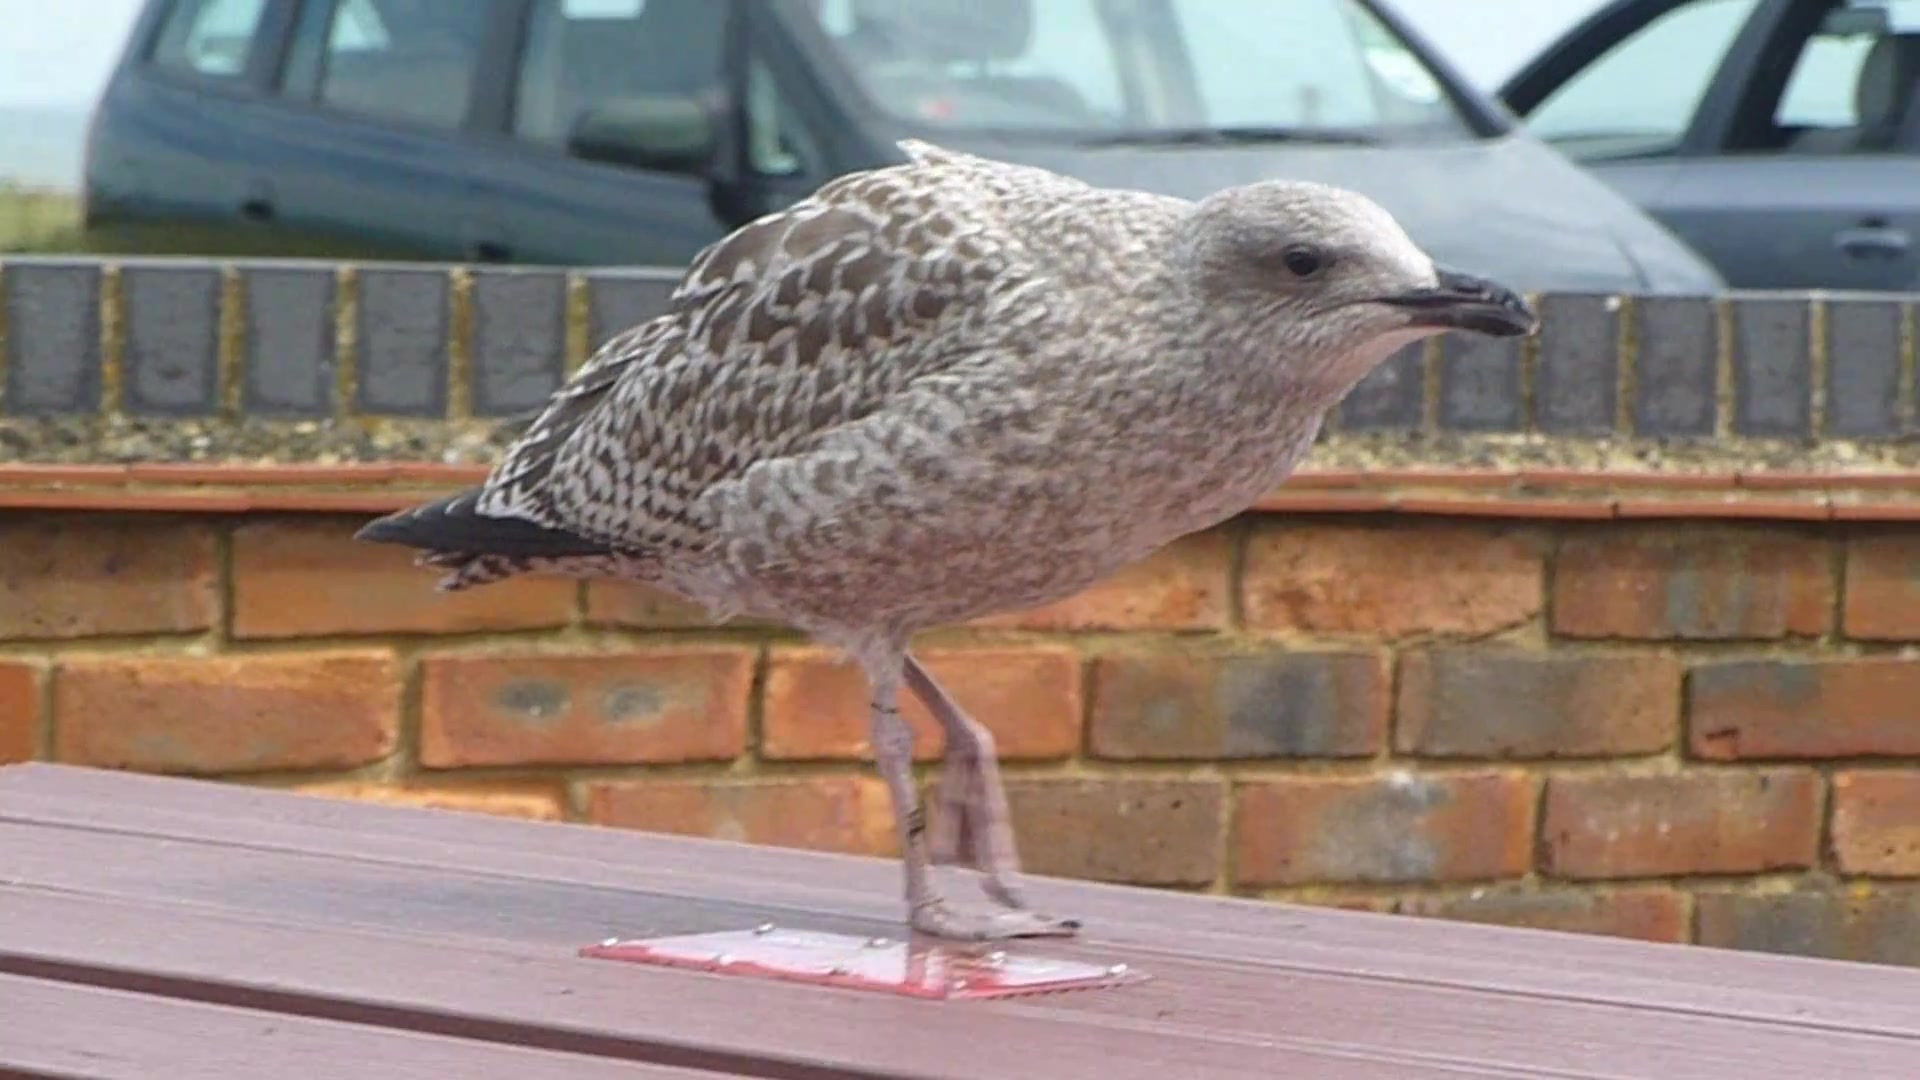bird: (353, 138, 1543, 944)
